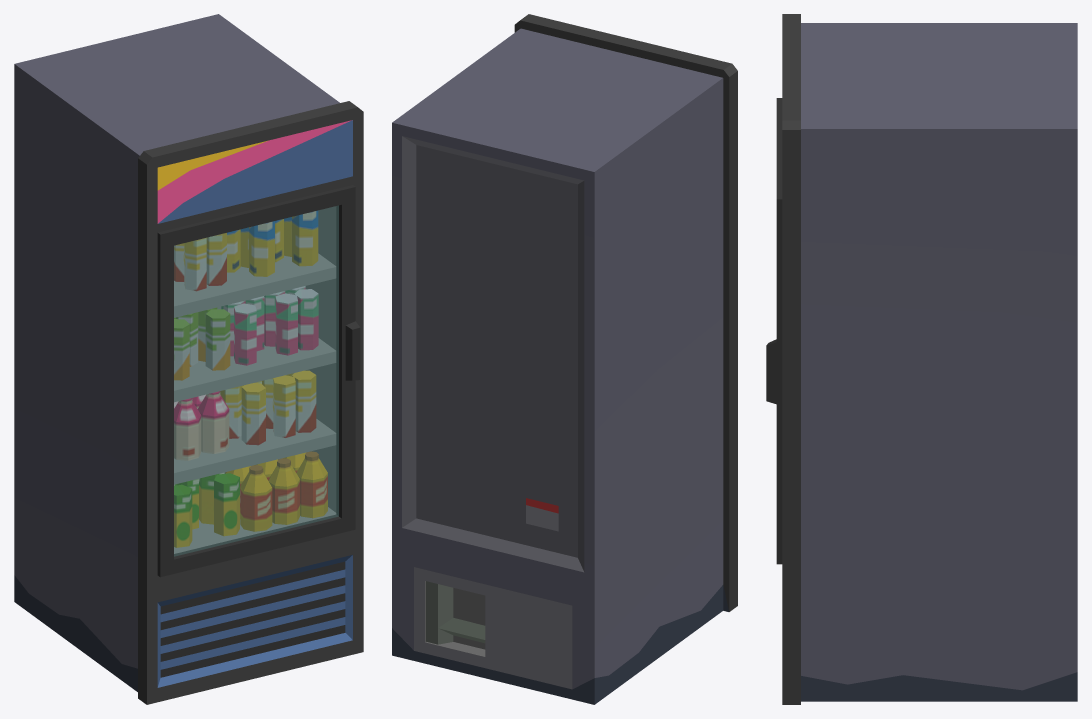
File: Market Fridge 1.fbx
The picture shows the model from 3 angles, left to right: view 1: azimuth 30°, elevation 25°; view 2: azimuth 150°, elevation 25°; view 3: azimuth 270°, elevation 25°; orthographic projection. The views are drawn at different scales.
Parts seen in each view (by area): view 1: Market_Fridge_1; view 2: Market_Fridge_1; view 3: Market_Fridge_1.
Part boxes in pixels (x1=…): Market_Fridge_1: x1=14, y1=14, x2=363, y2=704; Market_Fridge_1: x1=392, y1=14, x2=737, y2=704; Market_Fridge_1: x1=766, y1=14, x2=1077, y2=704.
Size of the model in its own units: 47.5 by 114 by 55.45.
